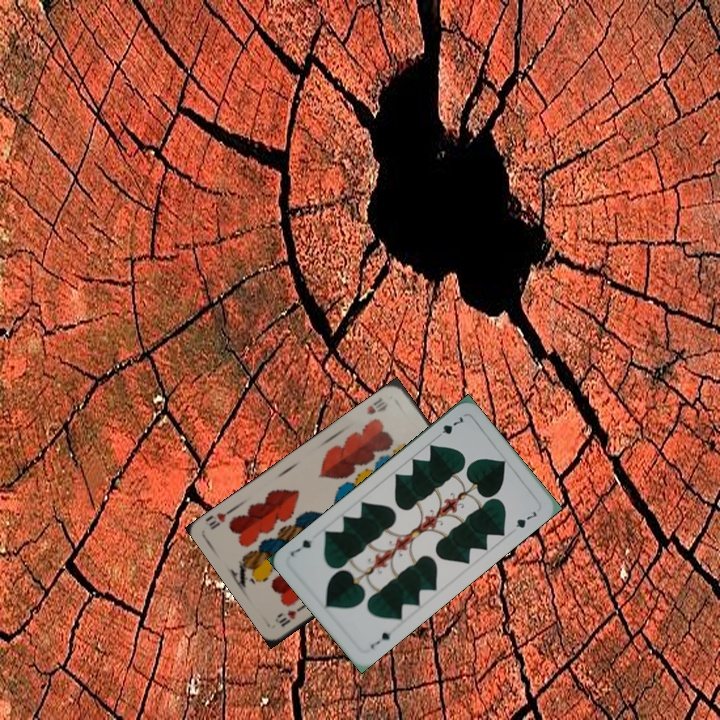G7: (432, 411, 466, 442), (366, 628, 393, 651)
H10: (271, 601, 308, 629), (363, 393, 391, 417)
